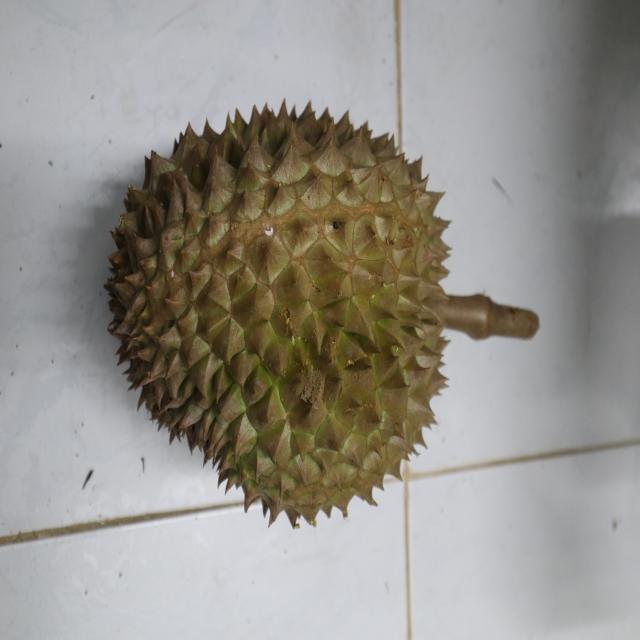mature: (105, 100, 455, 527)
